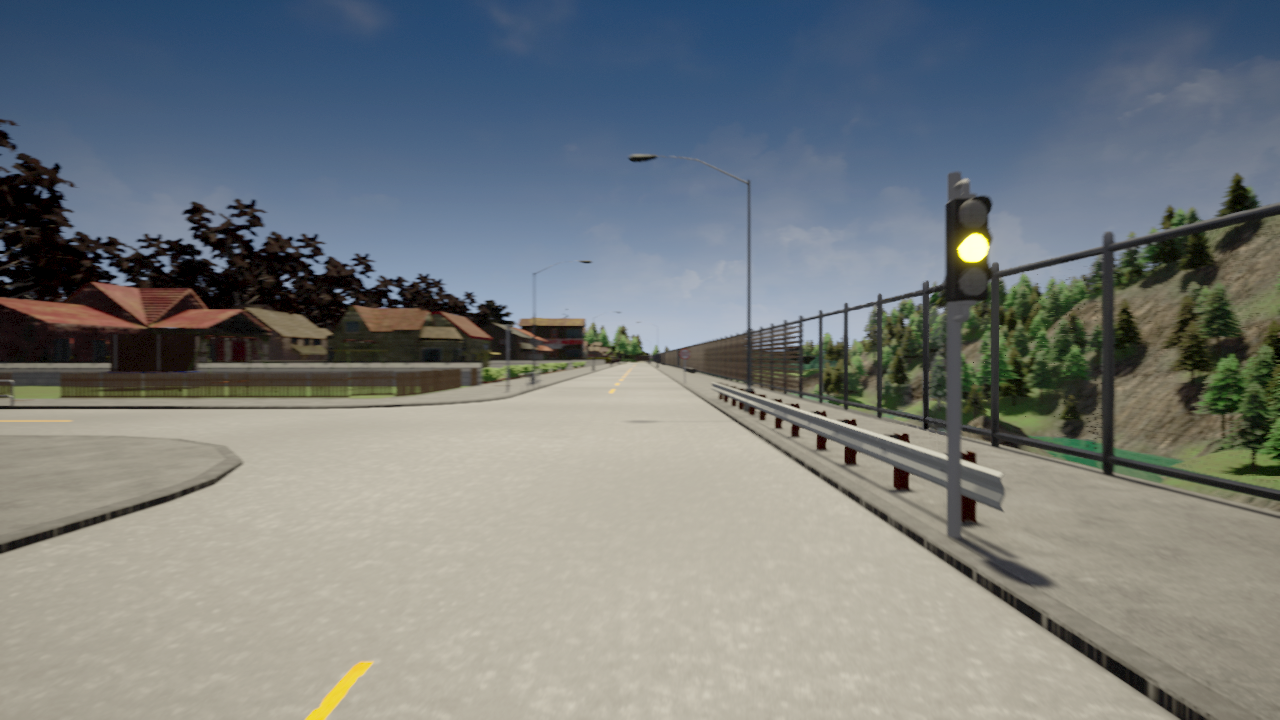yellow: (940, 197, 993, 312)
